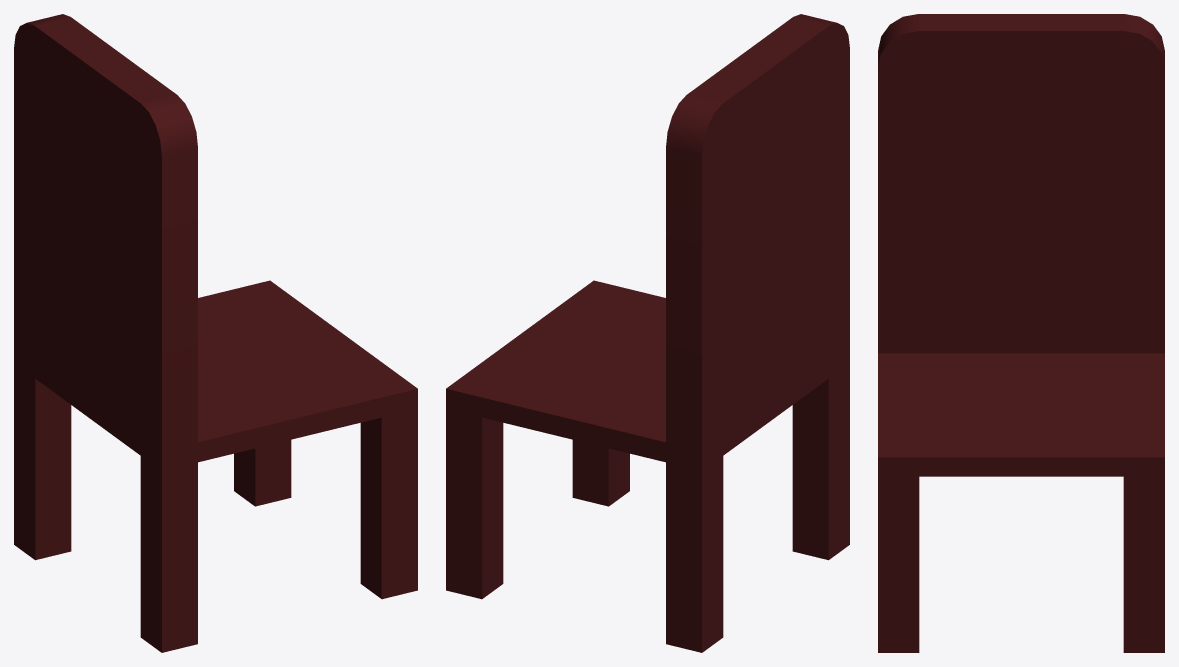
File: Chair.fbx
3 renders of one model, left to right at view 1: azimuth 30°, elevation 25°; view 2: azimuth 150°, elevation 25°; view 3: azimuth 270°, elevation 25°, orthographic. The views are drawn at different scales.
Visible parts, largest first — view 1: Cube; view 2: Cube; view 3: Cube.
Boxes of the visible parts, left/top/right/bottom form: Cube: left=14, top=14, right=417, bottom=652; Cube: left=446, top=14, right=849, bottom=652; Cube: left=878, top=14, right=1164, bottom=652.
Size of the model in its own units: 200 by 399 by 200.
